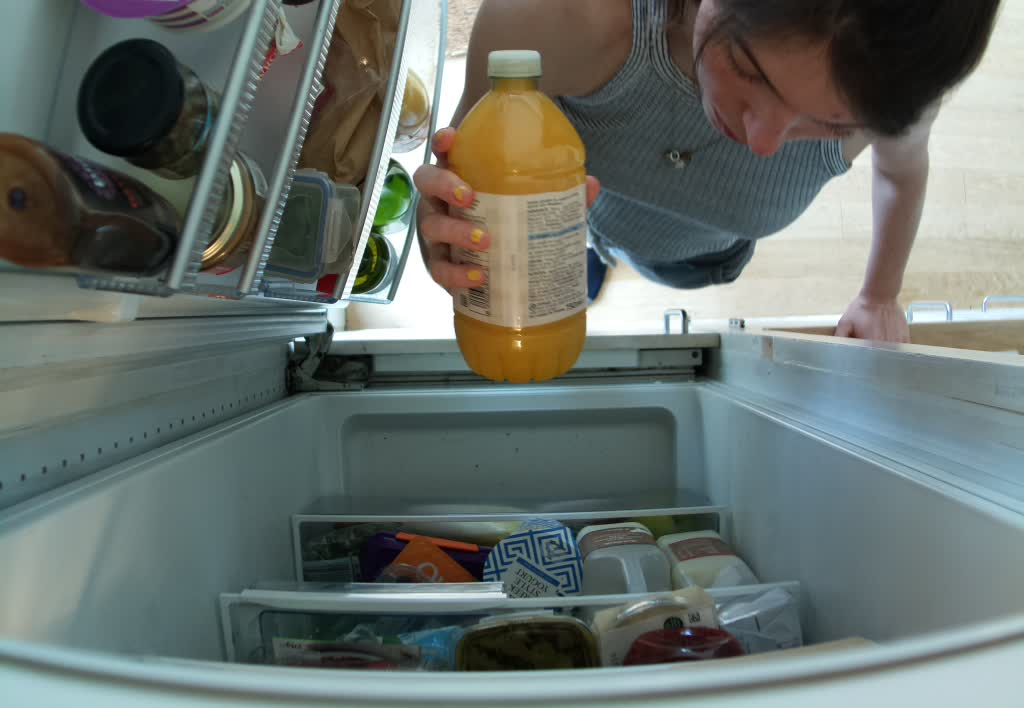juice: (454, 47, 589, 387)
